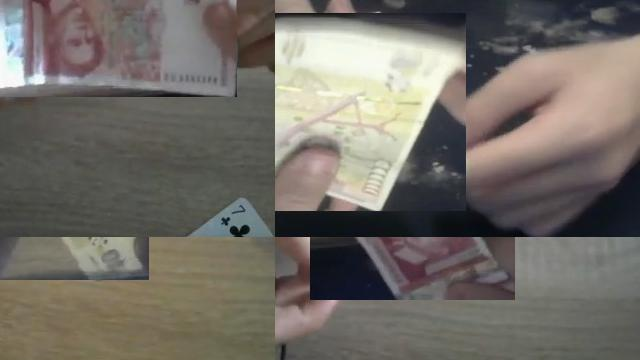10leva: (275, 13, 466, 211)
5leva: (354, 237, 515, 300)
